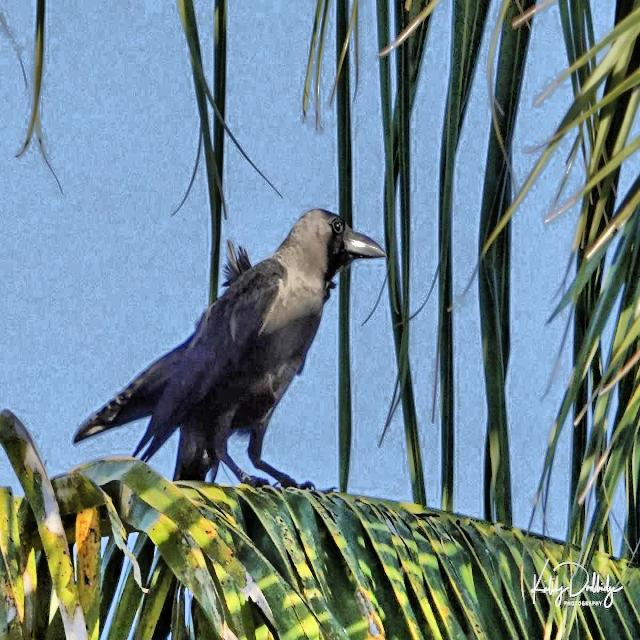crow: (66, 198, 399, 523)
